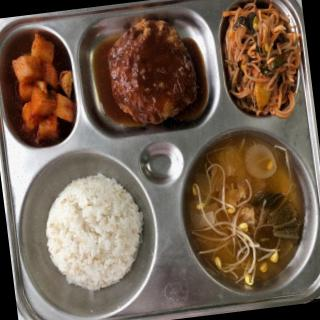Nasi: (41, 170, 152, 295)
